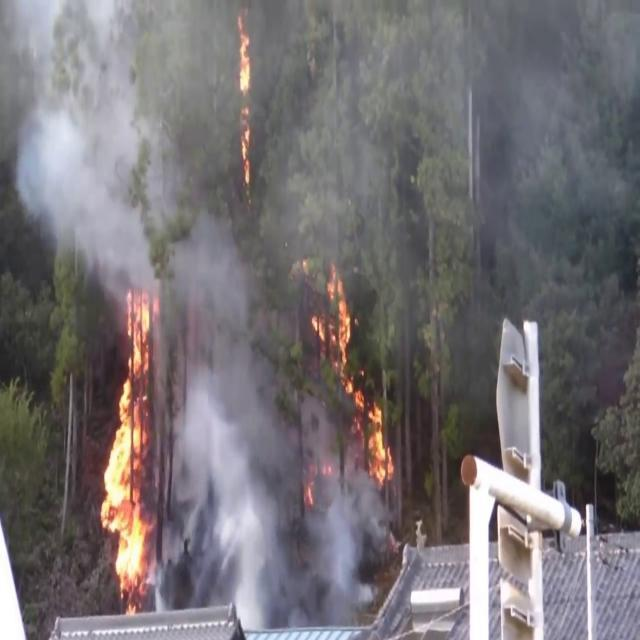Fire: (96, 290, 162, 602), (311, 264, 393, 492), (232, 0, 252, 190)
Smoke: (263, 0, 640, 282), (2, 0, 236, 319), (168, 201, 297, 608), (292, 389, 396, 634)
